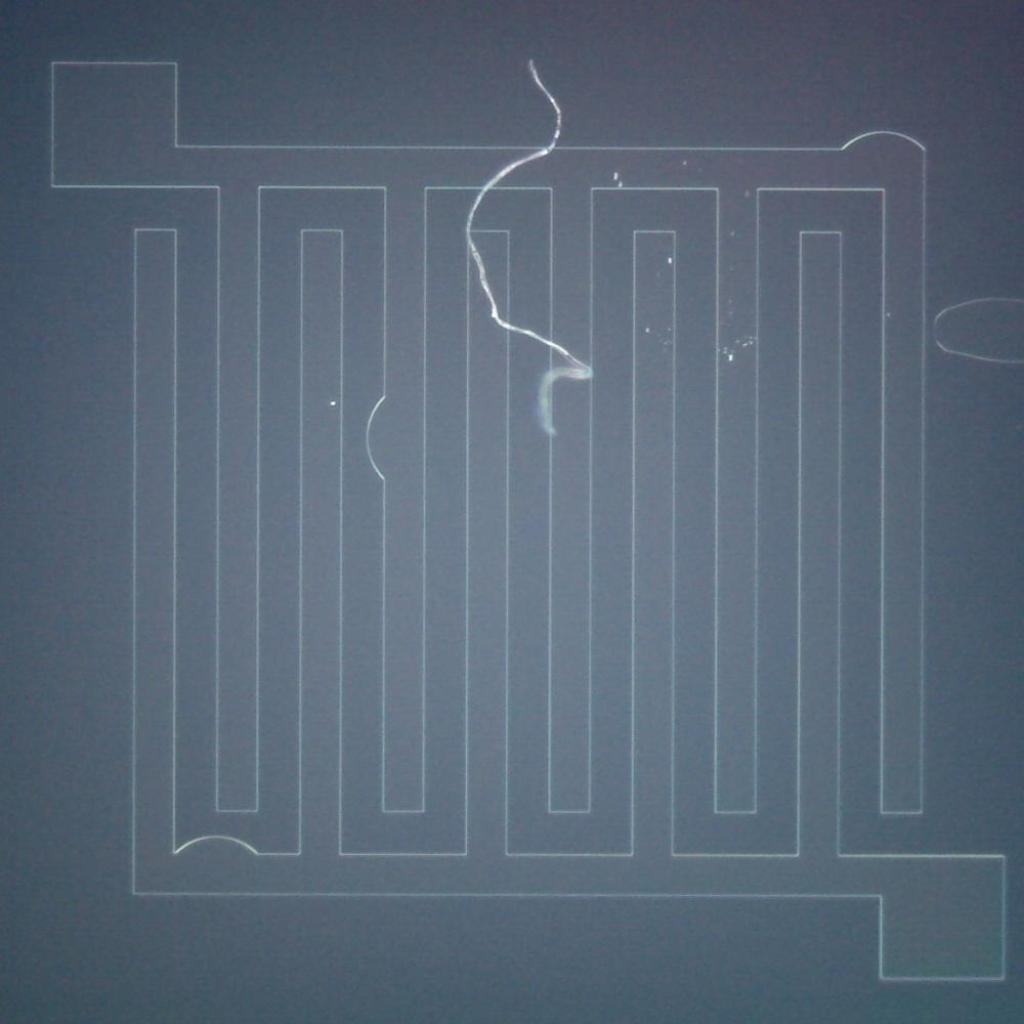curve: (477, 150, 512, 185), (512, 150, 547, 185), (524, 66, 559, 101), (538, 106, 574, 140), (450, 224, 486, 258), (458, 190, 493, 224), (471, 259, 506, 293), (471, 294, 506, 328), (512, 319, 547, 353), (563, 348, 598, 382), (526, 365, 560, 400), (526, 402, 561, 436)
dot: (613, 173, 619, 180), (666, 258, 673, 264), (644, 327, 650, 333), (728, 355, 734, 361), (330, 400, 336, 406)
